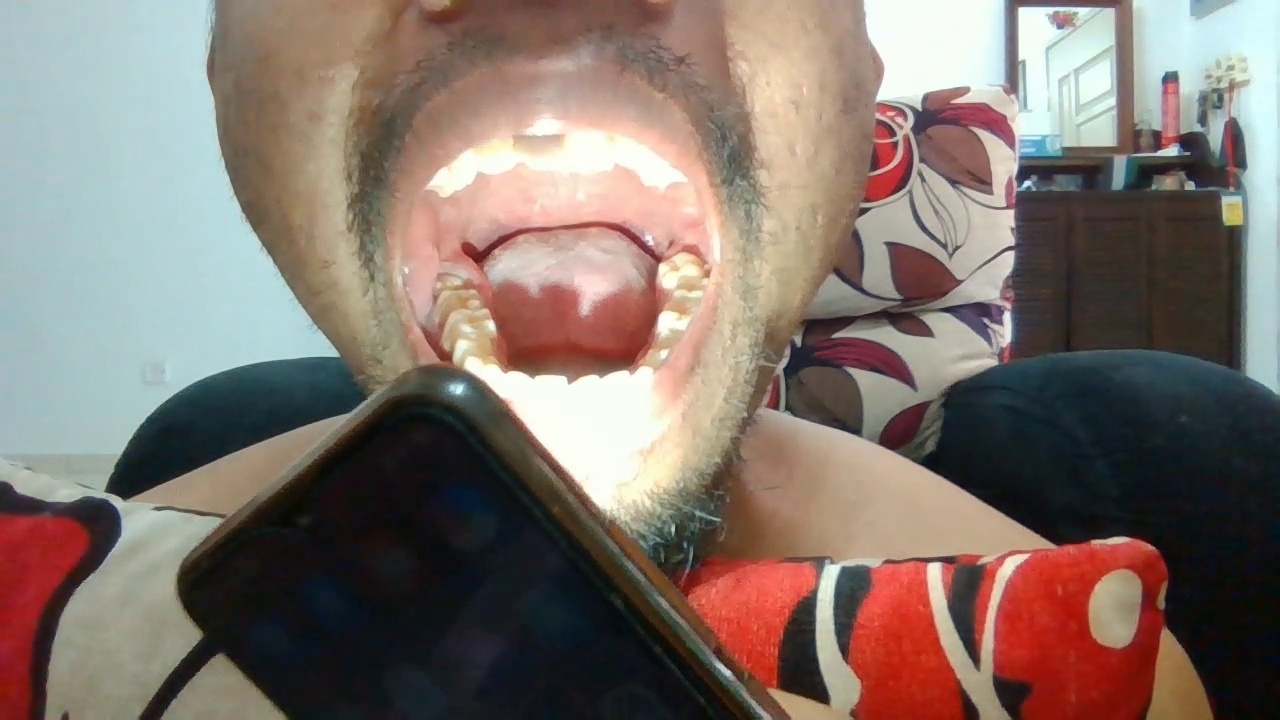1st Molar: (441, 308, 498, 339), (656, 298, 705, 329)
1st Premolar: (463, 355, 501, 369)
2nd Molar: (436, 288, 484, 310), (672, 275, 711, 298)
2nd Premolar: (452, 338, 496, 357)
3rd Molar: (656, 253, 704, 286), (433, 270, 468, 290)
Canine: (630, 363, 654, 406), (479, 364, 505, 396)
Central Incisor: (566, 129, 616, 175), (511, 131, 566, 170), (535, 374, 569, 405), (569, 375, 602, 406)
Lateral Incisor: (476, 138, 517, 176), (505, 371, 535, 406), (602, 371, 630, 406)
